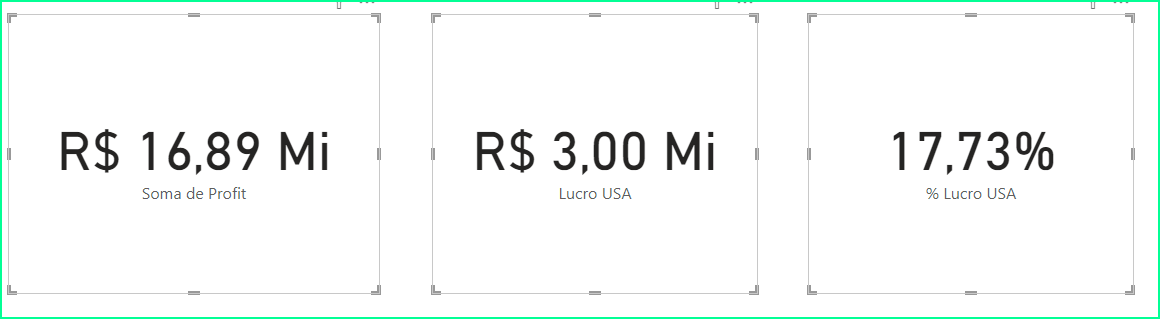

Layout of this report page (visuals, bound fields, positions):
{"tool":"powerbi","page":{"name":"Página 1","canvas":[1280,720],"ordinal":0},"visuals":[{"type":"card","fields":{"Values":["Sum(D_Detalhes.Profit)"]},"box":[34.2,48.8,371.3,280.1],"z":0},{"type":"card","fields":{"Values":["D_Detalhes.Lucro por Country"]},"box":[458.5,48.8,325.7,280.1],"z":1},{"type":"card","fields":{"Values":["D_Detalhes.% Lucro USA"]},"box":[834,48.8,325.7,280.1],"z":3}]}

Visuals, with their boxes in screenshot pixels (x1, y1, x2, y2):
card - Sum(D_Detalhes.Profit): box=[327, 1, 496, 128]
card - D_Detalhes.Lucro por Country: box=[520, 1, 668, 128]
card - D_Detalhes.% Lucro USA: box=[690, 1, 838, 128]
